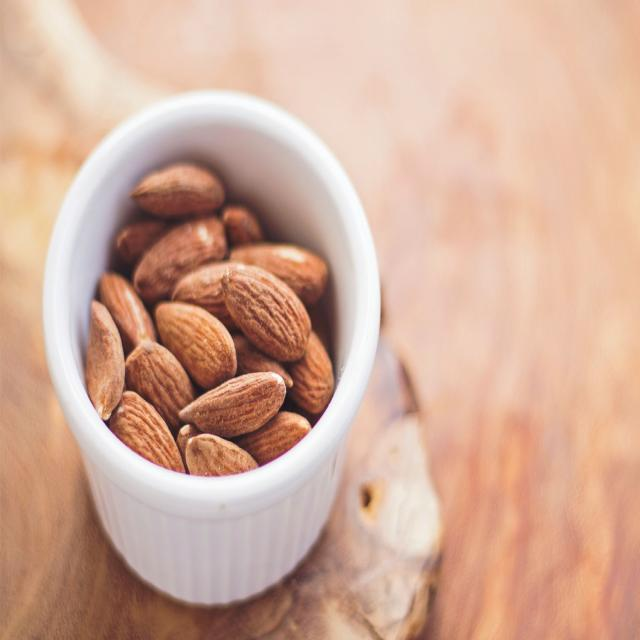Frutta secca: (82, 175, 335, 472)
